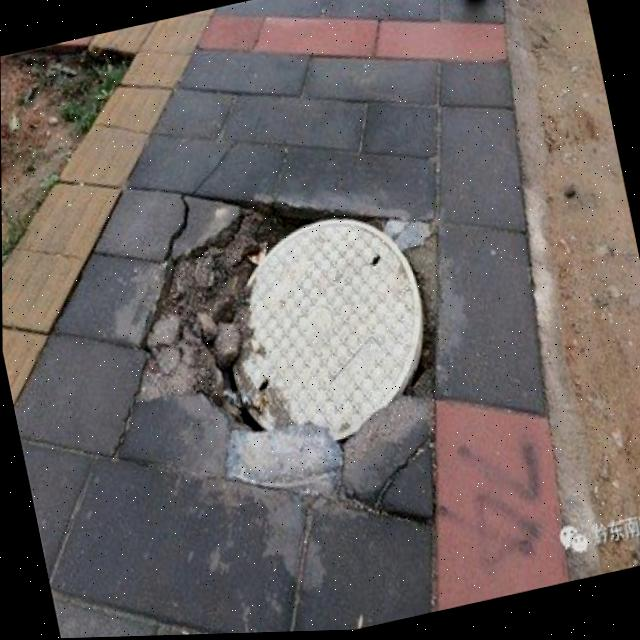manhole: (124, 160, 471, 481)
